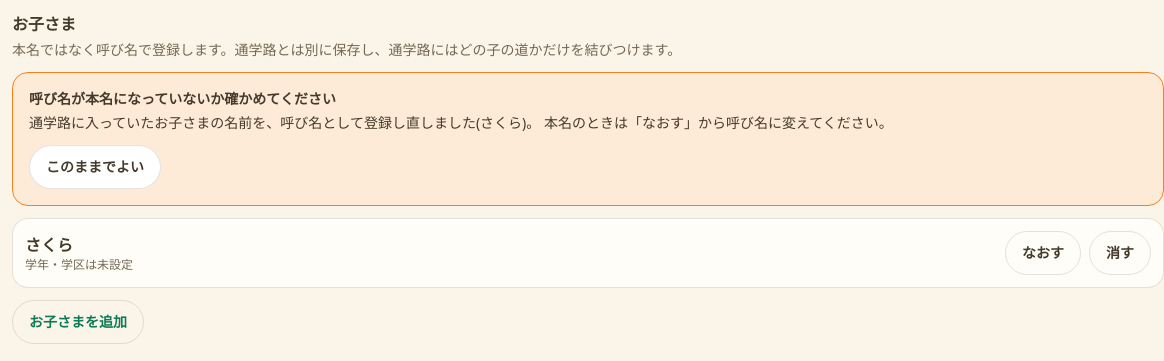
Test: ChildrenSettings(お子さまの登録) › 通学路から移した呼び名は、本名でないか確かめる案内を出し、「このままでよい」で閉じる
Expected: the message with test id "child-nickname-review" shows "呼び名が本名になっていないか確かめてください", [29, 89, 336, 108]
Expected: the message with test id "child-nickname-review" shows "さくら", [480, 113, 522, 132]
What coordinates should you click on to do the following:
click the button "このままでよい"
I would click on:
 (95, 167)
Its box is [29, 145, 161, 189].
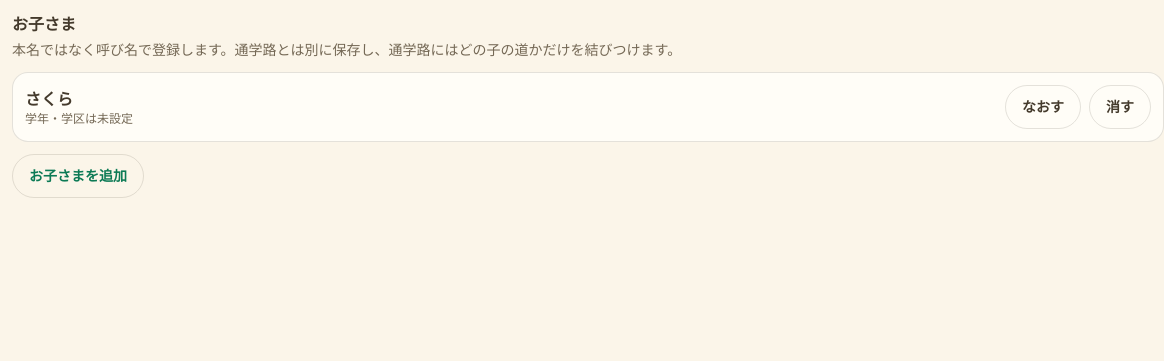
Now the message with test id "child-nickname-review" is gone
